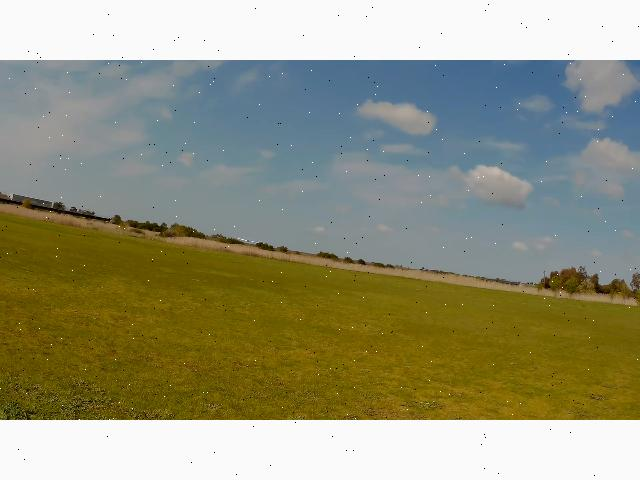Anti-Drone: (238, 238, 258, 244)
